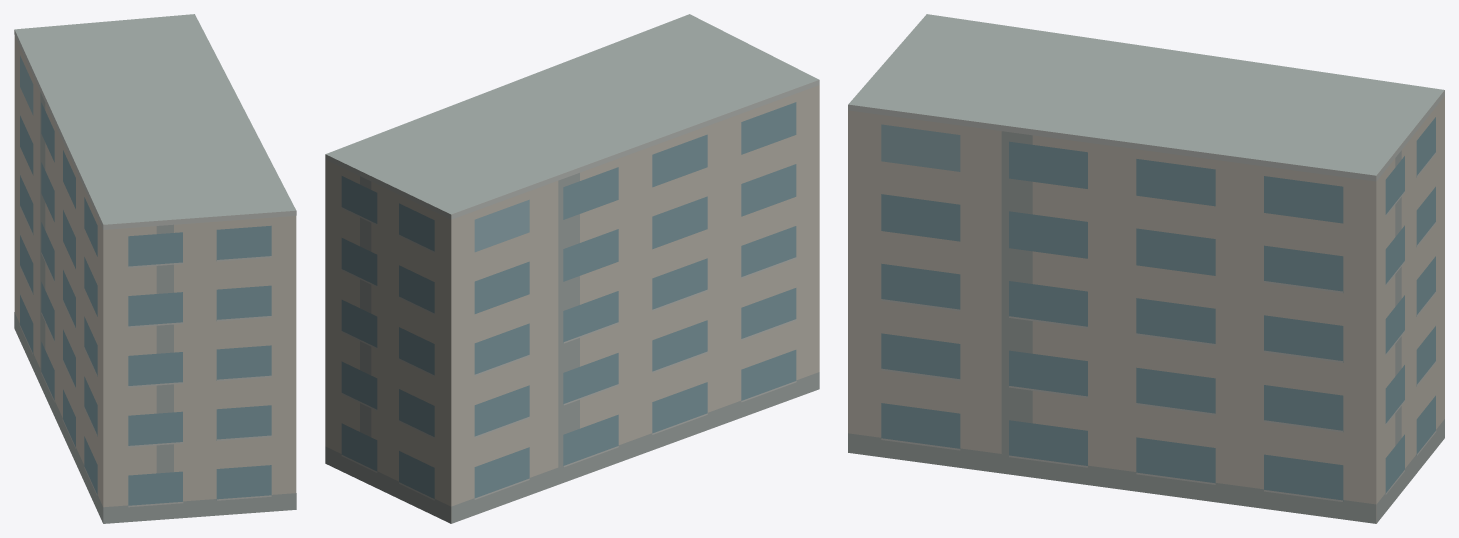
The model's file is survey-upis-32851839.glb.
The picture shows the model from 3 angles, left to right: view 1: azimuth 30°, elevation 25°; view 2: azimuth 150°, elevation 25°; view 3: azimuth 270°, elevation 25°; orthographic projection. The views are drawn at different scales.
Visible parts, largest first — view 1: survey-upis-32851839.tmp; view 2: survey-upis-32851839.tmp; view 3: survey-upis-32851839.tmp.
Boxes of the visible parts, <box> form: survey-upis-32851839.tmp: <box>14,14,296,523</box>; survey-upis-32851839.tmp: <box>325,14,819,523</box>; survey-upis-32851839.tmp: <box>848,14,1444,523</box>.
Size of the model in its own units: 14.25 by 14.3 by 22.22.
